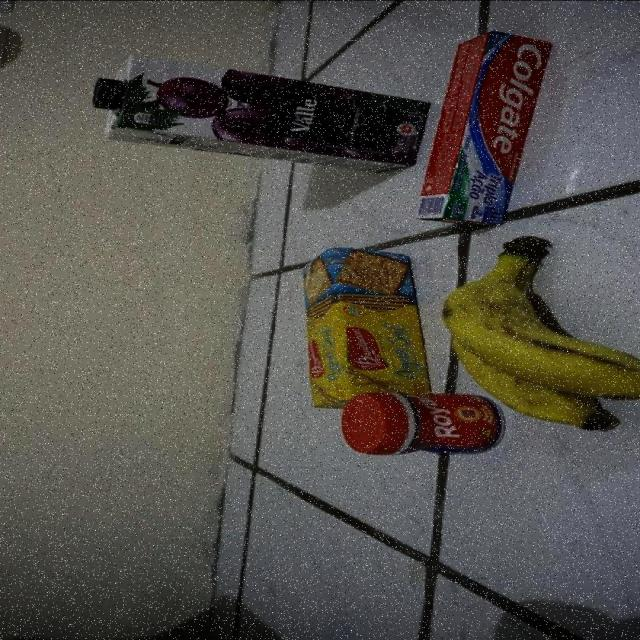Banana: (426, 235, 640, 388)
Cracker: (299, 246, 422, 390)
Toothpaste: (411, 26, 562, 222)
Yeast: (348, 389, 500, 457)
